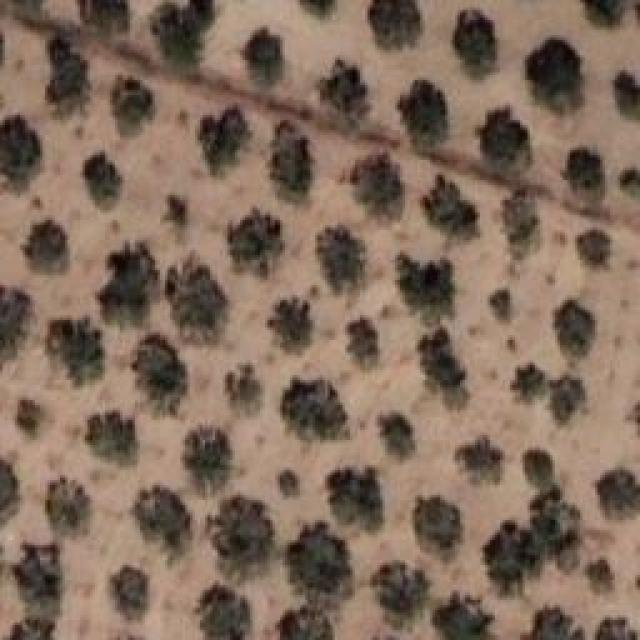Tree: (285, 523, 353, 610), (165, 253, 228, 344), (210, 495, 276, 581), (98, 242, 159, 326), (8, 543, 59, 640), (530, 485, 589, 563), (133, 485, 192, 561), (483, 520, 542, 596), (133, 335, 188, 416), (282, 378, 350, 441), (528, 38, 584, 114), (153, 0, 216, 67), (398, 253, 453, 325), (373, 563, 432, 630), (230, 207, 285, 277), (48, 318, 104, 386), (420, 328, 466, 410), (422, 175, 480, 240), (327, 468, 385, 531), (350, 153, 404, 220), (398, 80, 448, 152), (270, 120, 313, 202), (183, 425, 233, 495), (480, 108, 533, 173), (45, 37, 88, 117), (318, 225, 367, 295), (200, 108, 250, 176), (320, 60, 370, 125), (0, 115, 41, 192), (198, 585, 253, 640), (453, 10, 497, 78), (417, 495, 462, 561), (433, 592, 494, 640), (85, 410, 138, 465), (502, 188, 540, 260), (555, 300, 598, 361), (268, 298, 313, 355), (48, 478, 92, 536), (23, 220, 69, 275), (113, 75, 154, 136), (243, 28, 284, 89), (3, 285, 33, 366), (83, 153, 123, 211), (458, 435, 504, 484), (595, 468, 640, 518), (372, 0, 416, 49), (112, 565, 150, 619), (545, 375, 586, 423), (225, 365, 263, 416), (530, 607, 585, 640), (565, 150, 606, 191), (80, 0, 130, 33), (278, 610, 333, 640), (380, 413, 415, 460), (348, 318, 379, 371), (612, 73, 640, 121), (578, 230, 613, 267), (582, 0, 627, 27), (525, 450, 553, 492), (0, 460, 18, 525), (510, 365, 544, 398), (15, 397, 43, 437), (585, 558, 614, 594), (595, 618, 638, 640), (275, 468, 305, 498), (488, 290, 512, 322), (165, 195, 188, 227), (300, 0, 336, 18), (622, 170, 640, 198)
